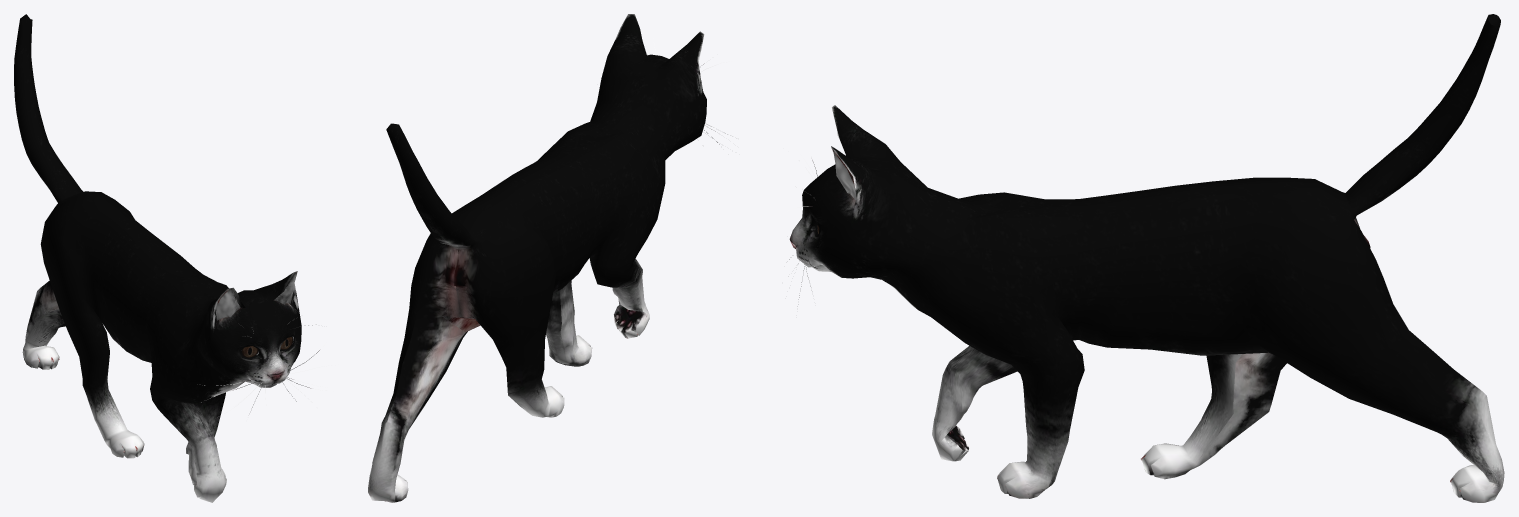
File: cat.obj
The picture shows the model from 3 angles, left to right: view 1: azimuth 30°, elevation 25°; view 2: azimuth 150°, elevation 25°; view 3: azimuth 270°, elevation 25°; orthographic projection. The views are drawn at different scales.
Visible parts, largest first — view 1: 0000_pet_s_4cat_Black.001, 0003_pet_s_4cat_Black.001; view 2: 0000_pet_s_4cat_Black.001; view 3: 0000_pet_s_4cat_Black.001.
Part boxes in pixels (x1,y1,x2,y2): 0000_pet_s_4cat_Black.001: (14,14,301,502); 0003_pet_s_4cat_Black.001: (216,273,296,320); 0000_pet_s_4cat_Black.001: (368,14,706,502); 0000_pet_s_4cat_Black.001: (789,14,1504,502).
Bounding box in the file's own units: 20.9 × 49.59 × 69.03.
Materials: 2 (2 with a texture image).
